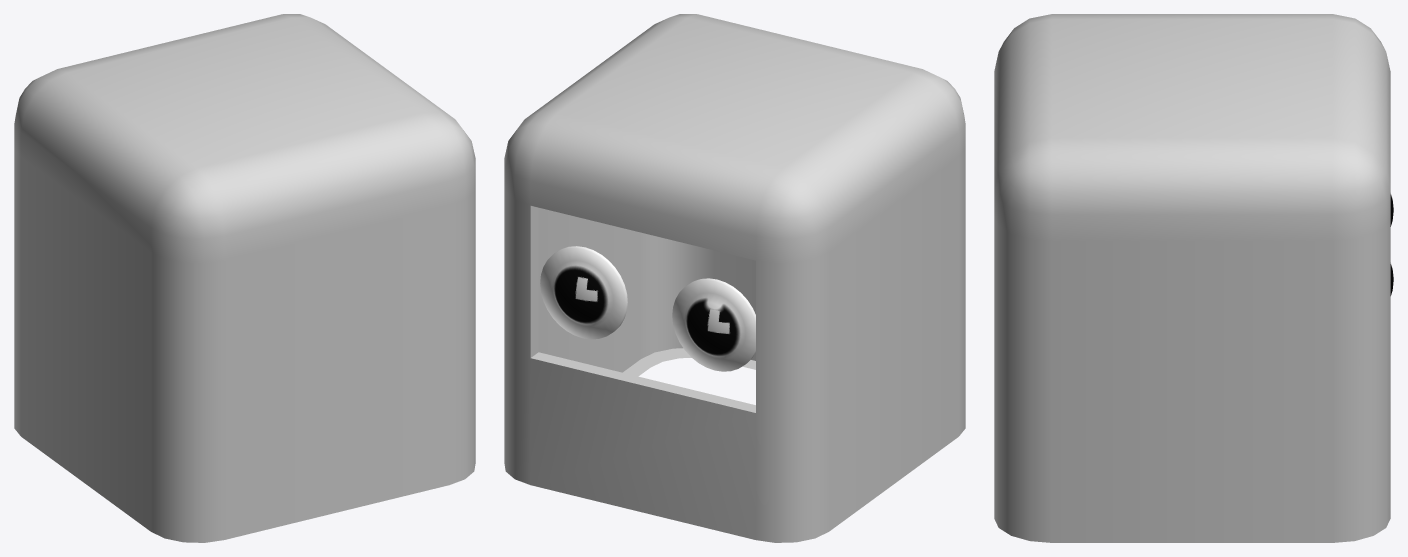
The model's file is BalaclavaWhite.fbx.
The picture shows the model from 3 angles, left to right: view 1: azimuth 30°, elevation 25°; view 2: azimuth 150°, elevation 25°; view 3: azimuth 270°, elevation 25°; orthographic projection. The views are drawn at different scales.
Visible parts, largest first — view 1: BalaclavaWhite; view 2: BalaclavaWhite, CuteEyes; view 3: BalaclavaWhite.
Part boxes in pixels (x1,y1,x2,y2): BalaclavaWhite: (14, 14, 475, 542); BalaclavaWhite: (504, 14, 965, 542); CuteEyes: (540, 246, 755, 371); BalaclavaWhite: (994, 14, 1390, 542).
Bounding box in the file's own units: 110 × 116 × 110.
